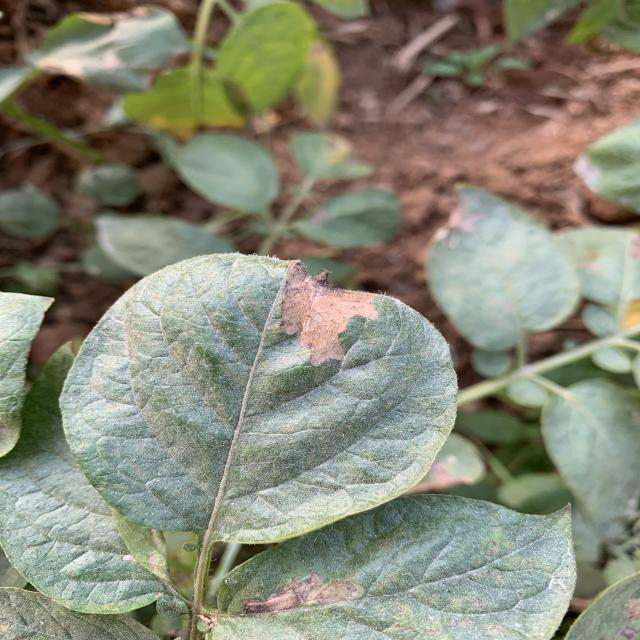lateblight: (280, 260, 378, 366), (242, 572, 363, 614)
